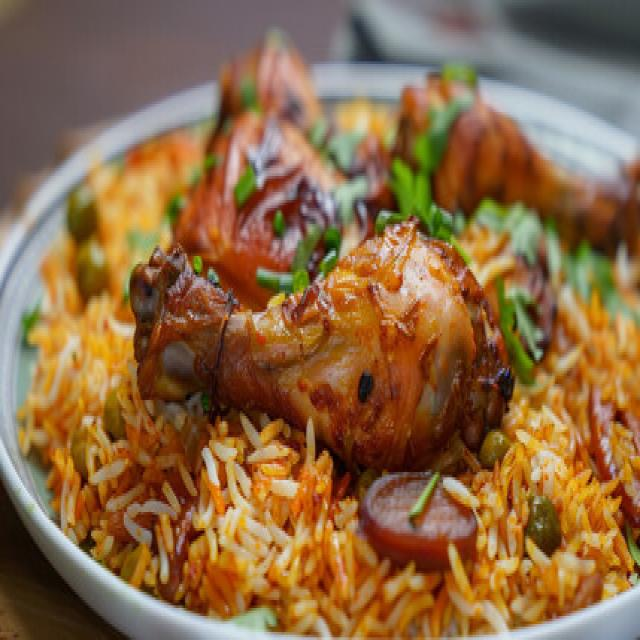BIRIYANI: (19, 26, 639, 637)
